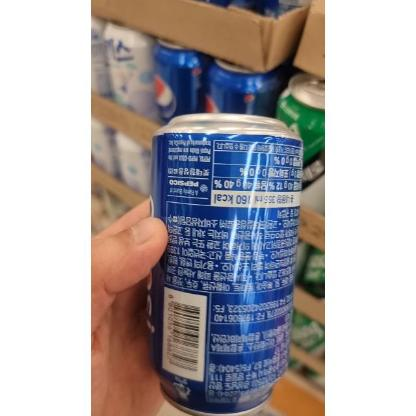Can: (147, 110, 303, 416)
